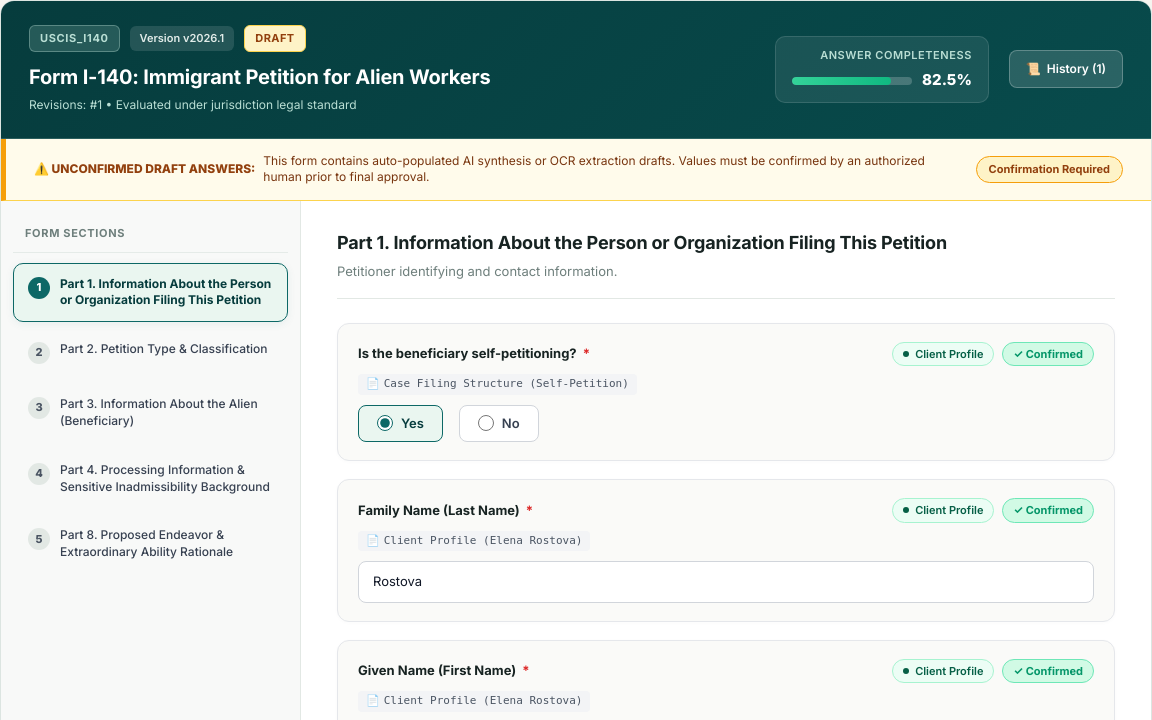
Test: Phase 8 — Application Forms, Readiness Checks, and Package Builder › ConfigurableFormViewer Component › displays physical evidence provenance chips including page and extraction confidence
Navigate to Part 3 Alien Information
Click the text "Part 3. Information About the Alien (Beneficiary)" at x=166, y=413, box [60,396,273,430]
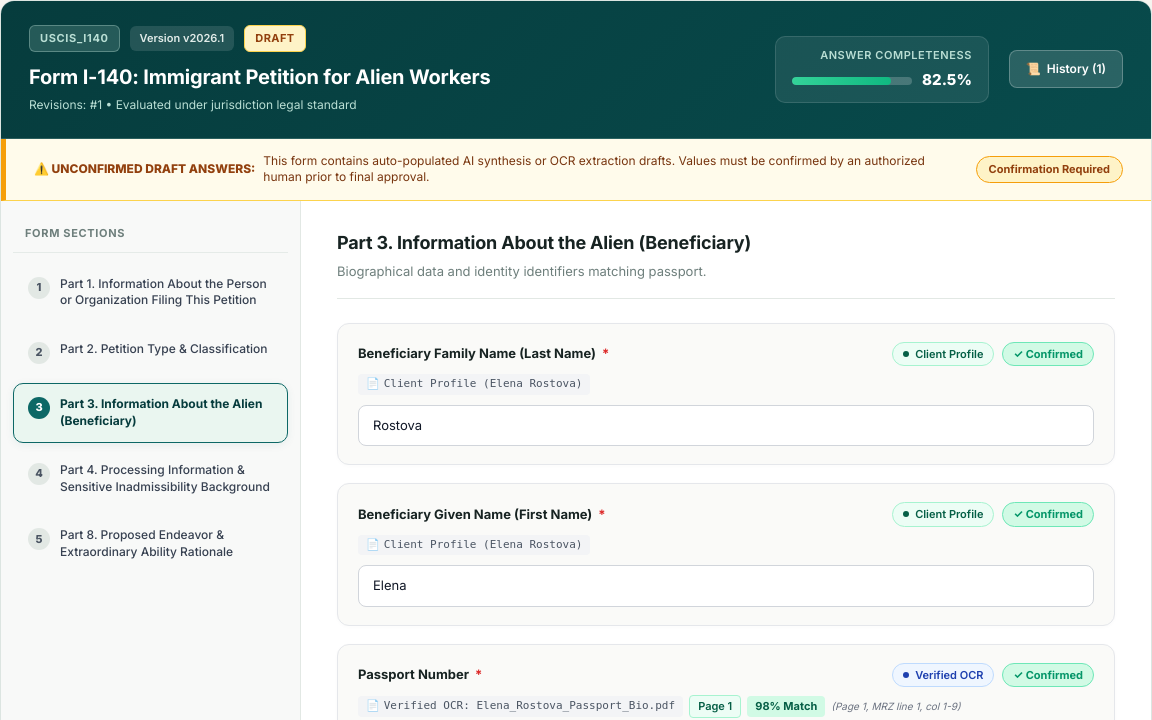
Expected: the text "Page 1" is shown, [689,695,741,718]
Expected: the text "98% Match" is shown, [747,696,825,717]
